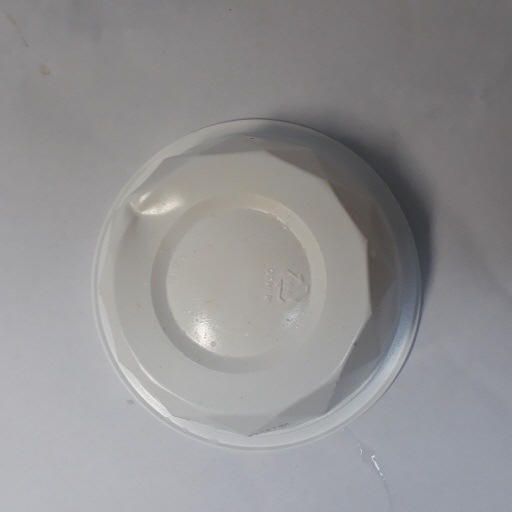Plastic_5: (88, 116, 423, 455)
